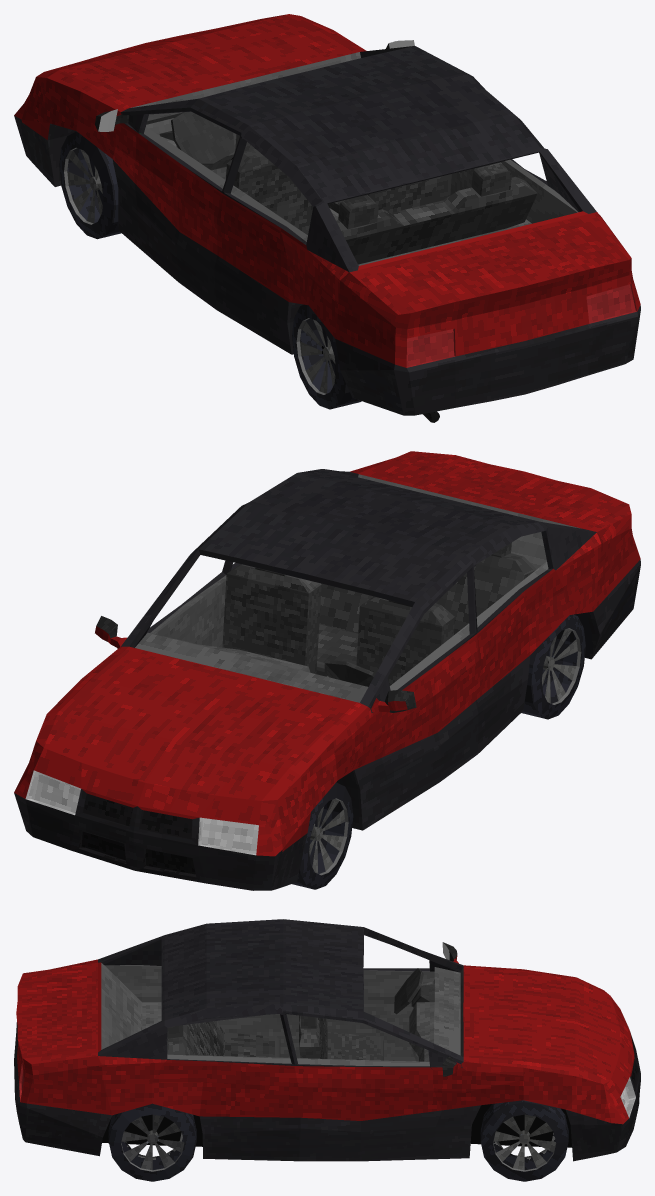
The model's file is car_test.gltf.
3 renders of one model, top to bottom at view 1: azimuth 30°, elevation 25°; view 2: azimuth 150°, elevation 25°; view 3: azimuth 270°, elevation 25°, orthographic. The views are drawn at different scales.
Parts seen in each view (by area): view 1: Car; view 2: Car; view 3: Car.
Part boxes in pixels (x1,y1,x2,y2): Car: (14,14,640,422); Car: (14,451,640,890); Car: (14,919,640,1181).
Bounding box in the file's own units: 2.41 × 1.58 × 5.14.
Materials: 2 (2 with a texture image).
